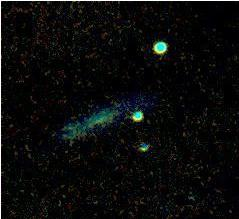star: (74, 112, 104, 142)
